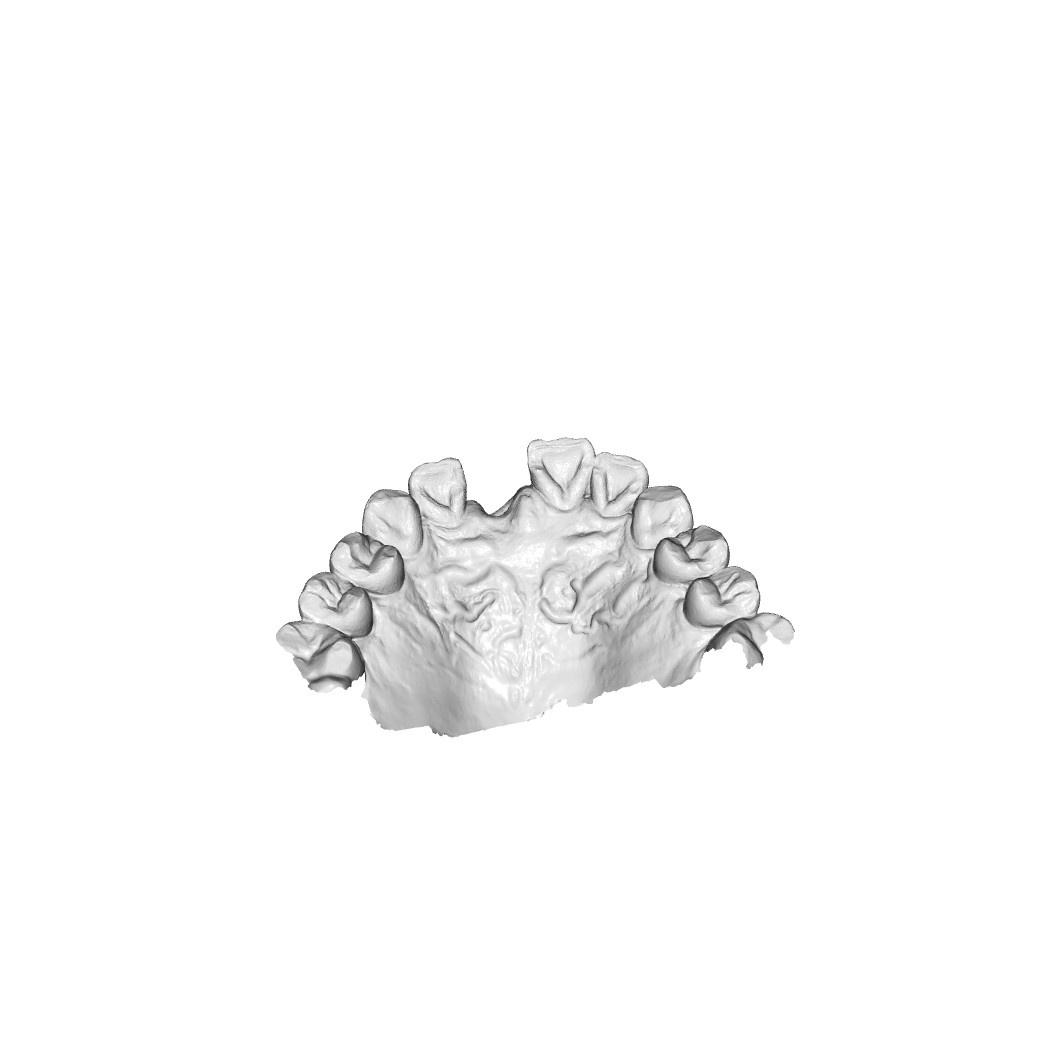canine: (358, 486, 423, 555), (629, 483, 694, 547)
incisor: (526, 436, 590, 505), (408, 455, 468, 523), (593, 450, 643, 513)
premolar: (296, 569, 375, 639), (325, 530, 405, 595), (683, 563, 761, 628), (653, 523, 736, 580)
